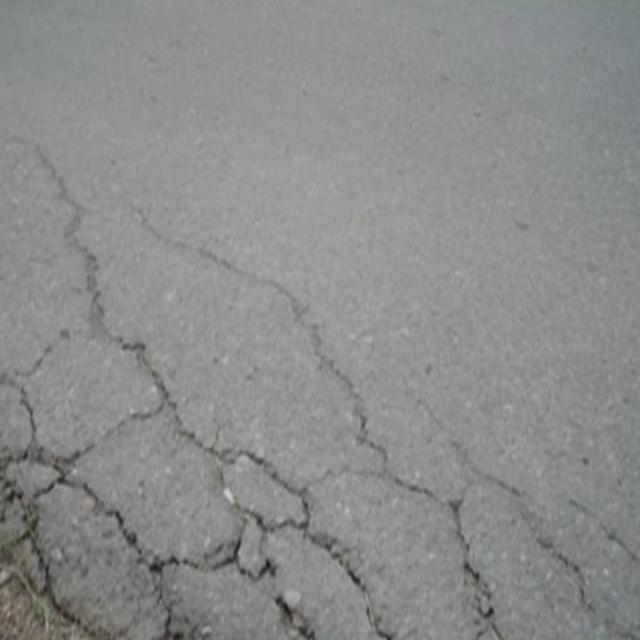Pinggir: (0, 352, 435, 640)
